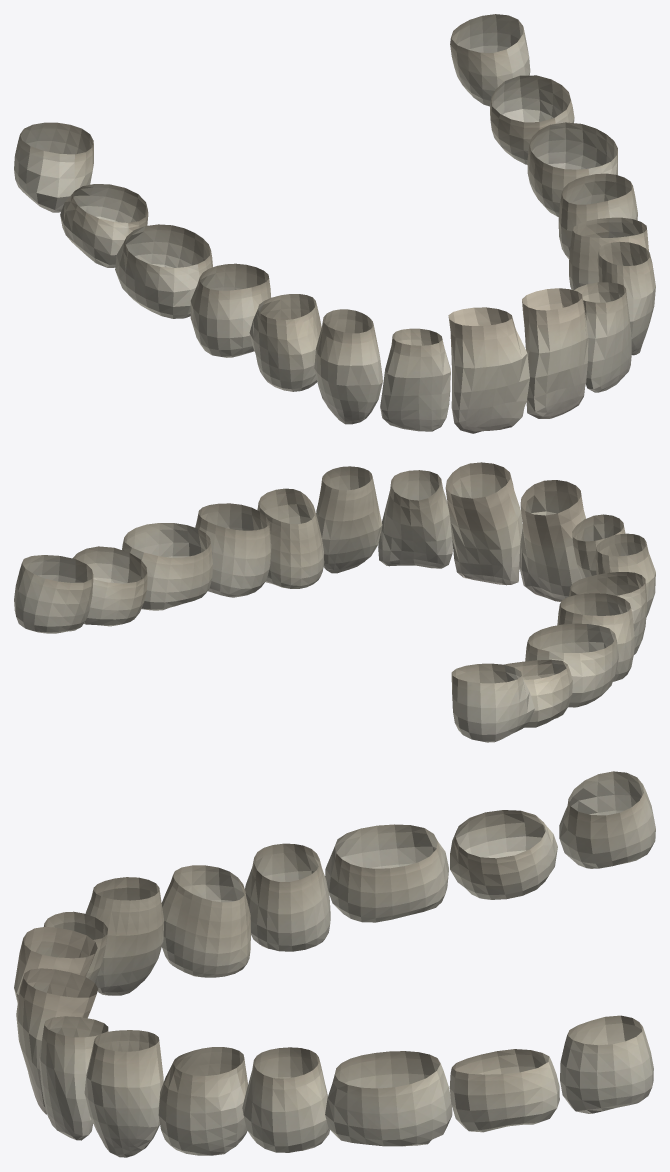
Rendered from Teeth Top.obj.
3 renders of one model, top to bottom at view 1: azimuth 30°, elevation 25°; view 2: azimuth 150°, elevation 25°; view 3: azimuth 270°, elevation 25°, orthographic. The views are drawn at different scales.
Parts seen in each view (by area): view 1: Teeth Top; view 2: Teeth Top; view 3: Teeth Top.
Part boxes in pixels (box(x1,y1,x2,y2)): Teeth Top: box(14, 14, 655, 433); Teeth Top: box(14, 462, 655, 742); Teeth Top: box(14, 771, 655, 1157).
Size of the model in its own units: 0.0819 by 0.0248 by 0.0803.
Materials: 1 (1 with a texture image).
